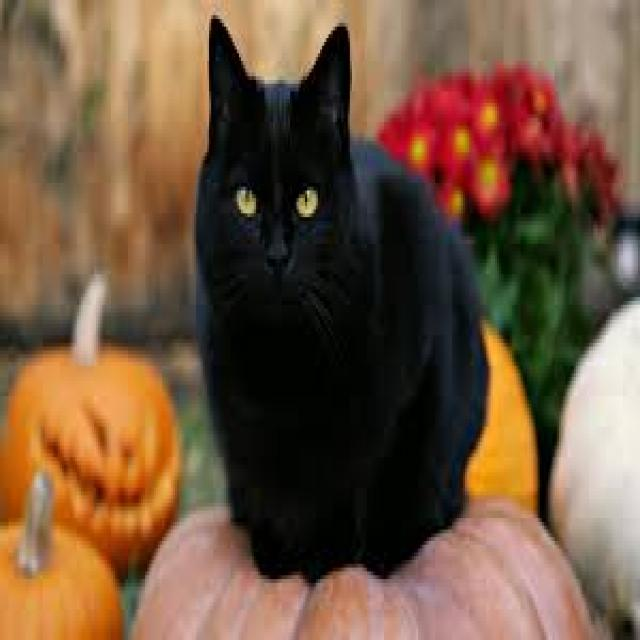black cat: (156, 0, 517, 594)
